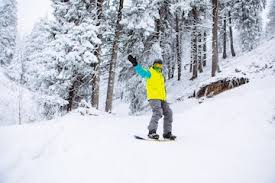snowboarder: (110, 44, 197, 150)
